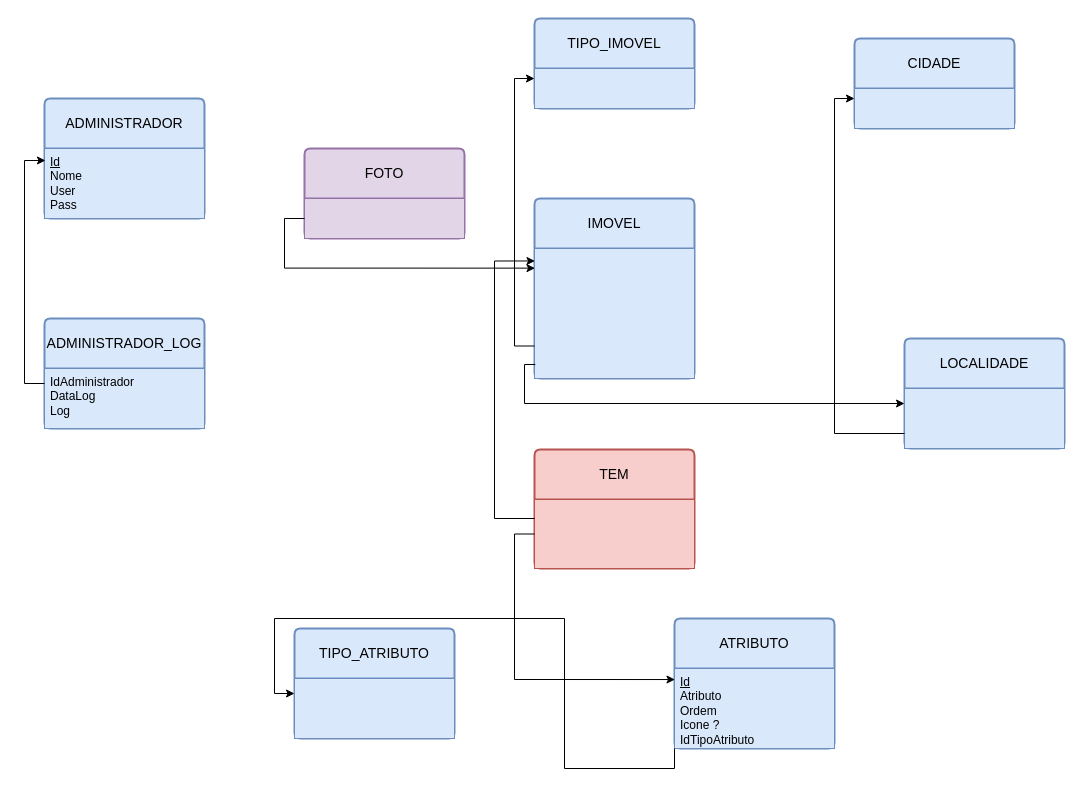
This 1083x794 diagram has some shape labels left out. Here are the shapes that lost their labels. From the top down, the centre of each, then its label:
point (614, 88): Id TipoImovel
point (934, 108): Id Cidade
point (384, 218): Id Foto
point (614, 313): Id Titulo Preço NumWC NumQuartos LatitudeLongitude IdTipoImovel IdLocalidade
point (984, 418): Id Localidade IdCidade
point (614, 533): IdImovel IdAtributo DataRelacao Quantidades
point (374, 708): Id Ordem TipoAtributo
